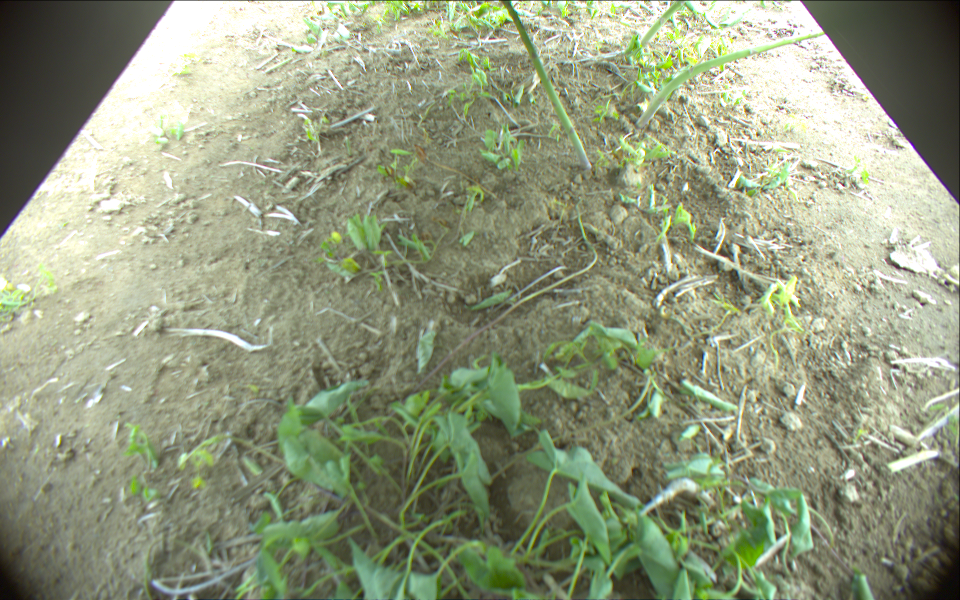aspa: (636, 30, 826, 133), (502, 1, 591, 169), (642, 1, 685, 51)
